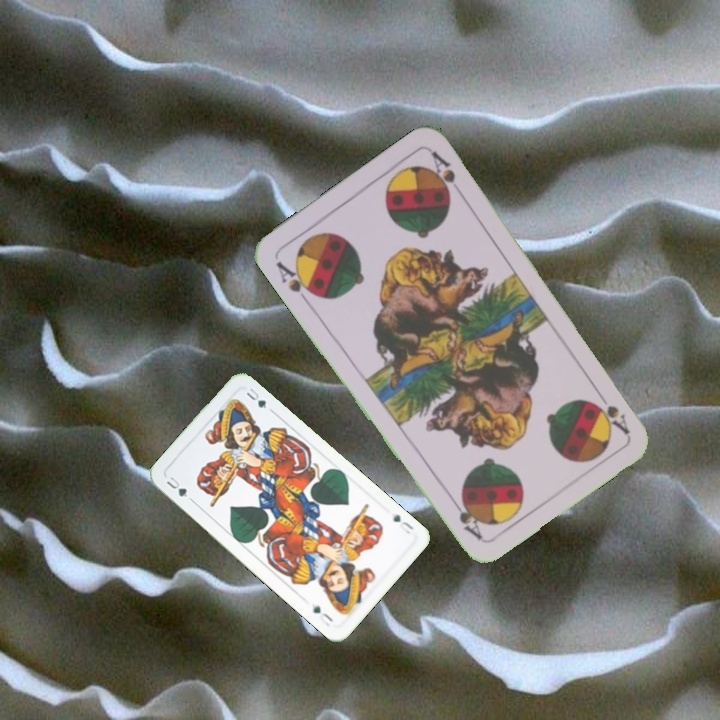GU: (162, 472, 190, 500), (389, 510, 416, 537)
SA: (272, 257, 320, 307), (591, 385, 633, 437)
